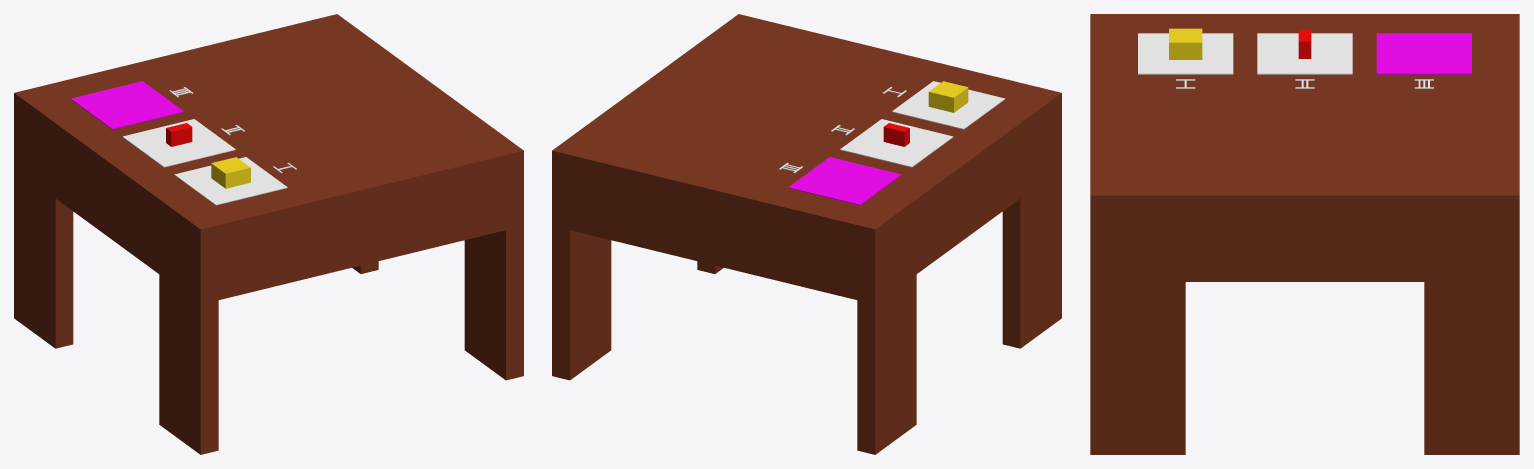
Rendered from env.dae.
3 views of the same model, side by side, from view 1: azimuth 30°, elevation 25°; view 2: azimuth 150°, elevation 25°; view 3: azimuth 270°, elevation 25° (orthographic). The views are drawn at different scales.
Visible parts, largest first — view 1: base (×9); view 2: base (×9); view 3: base (×7).
Boxes of the visible parts, box(x1,y1,x2,y2) form: base (×9): box(14, 14, 523, 454); base (×9): box(552, 14, 1061, 454); base (×7): box(1090, 14, 1519, 454).
Bounding box in the file's own units: 0.9 × 0.9 × 0.643.
